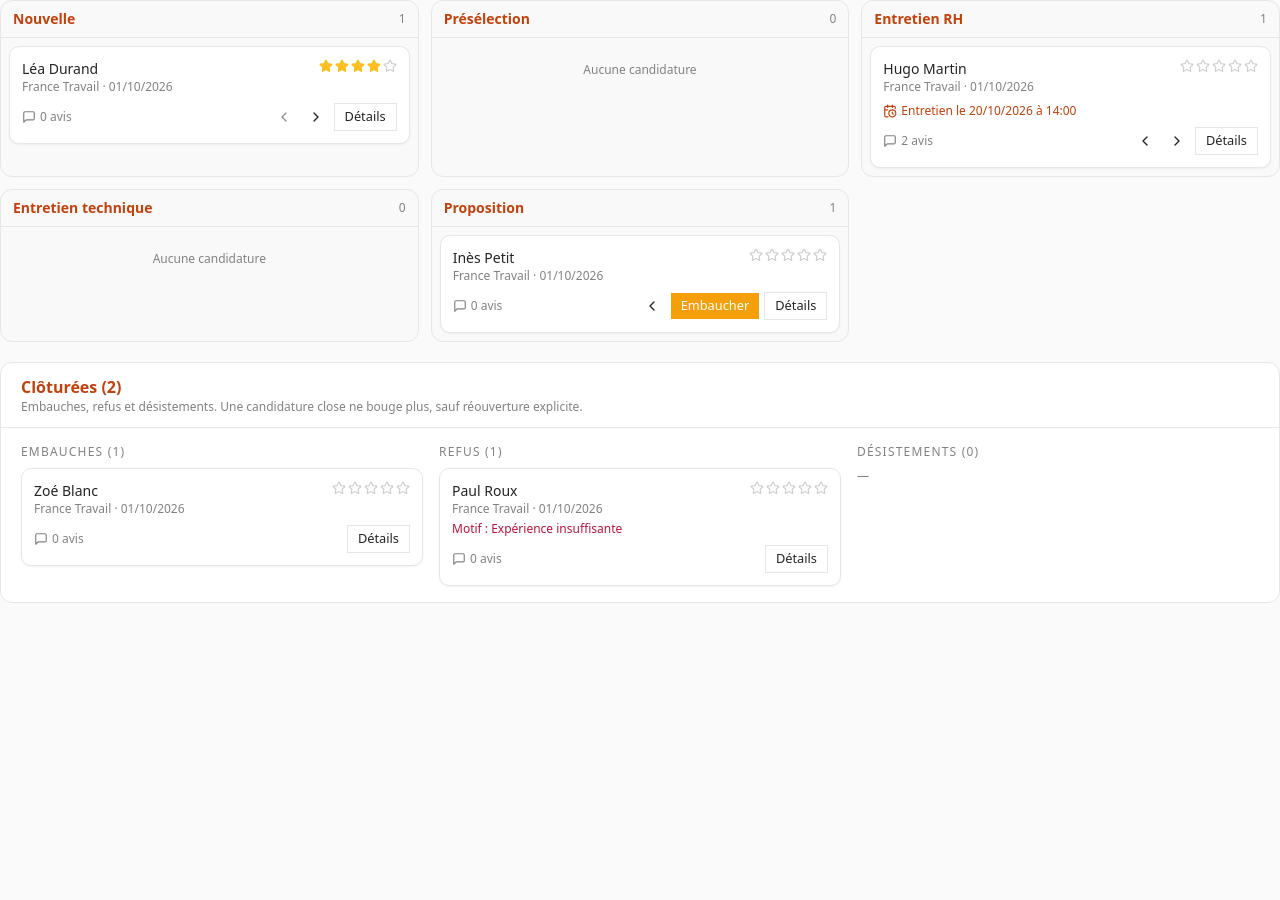
PipelineOffre › en fin de pipeline, « Embaucher » ouvre la confirmation d’embauche
This screenshot has width=1280, height=900.
Step 1. Click the button "Embaucher" → point(715, 306), box [670,292,760,320]
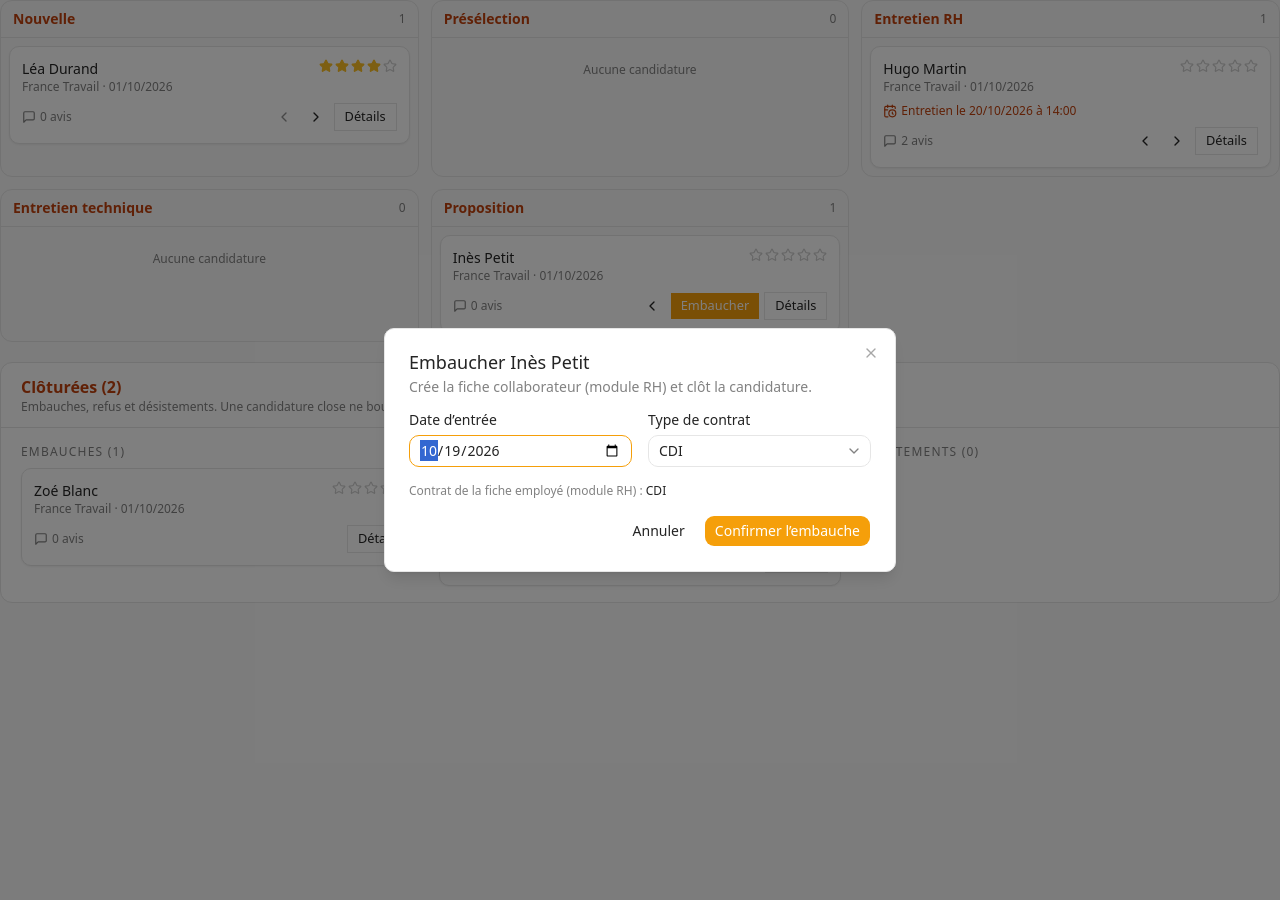
Expected: the heading "Embaucher Inès Petit" is shown, [409,350,590,374]
Expected: the button "Confirmer l’embauche" is shown, [704,515,871,547]
